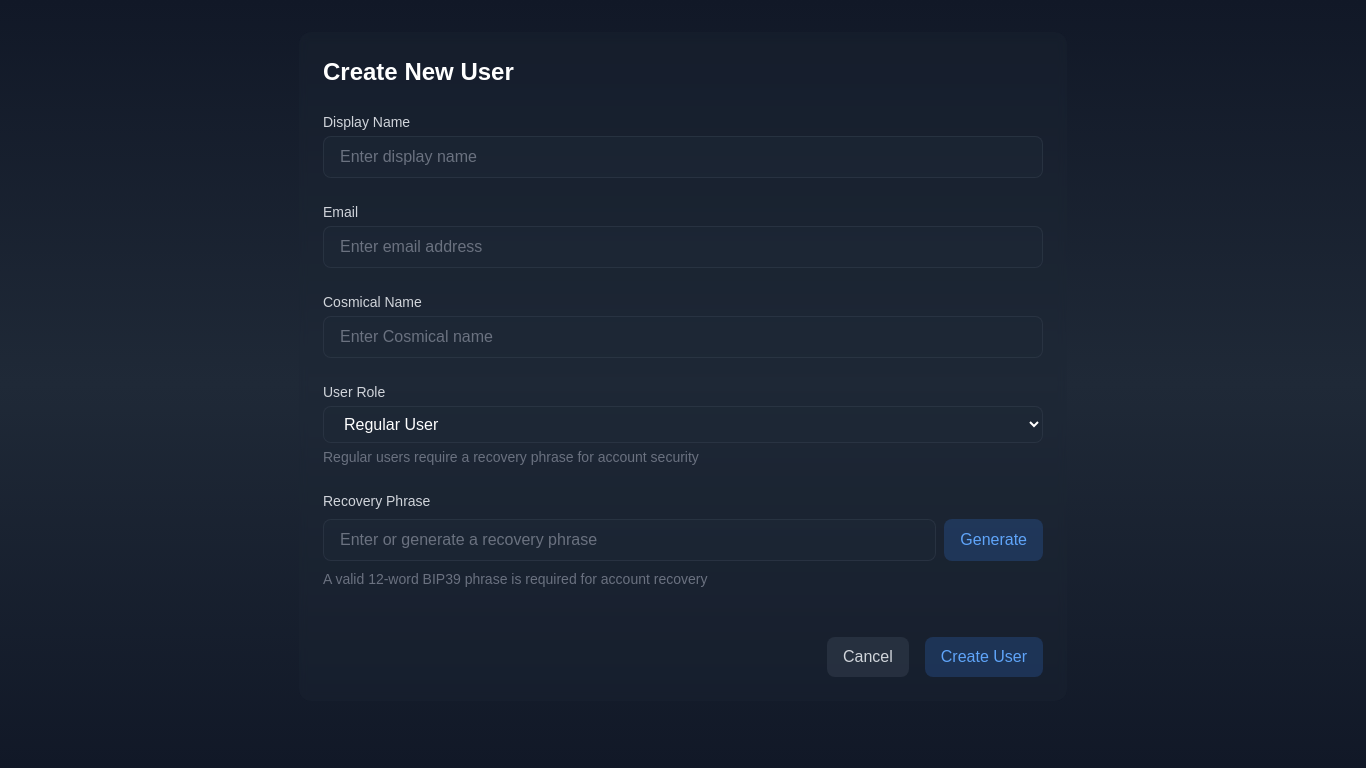
Test: UserEditForm.vue › Form Validation › validates display name length
The width and height of the screenshot is (1366, 768).
Type "ab" into the field with placeholder "Enter display name".
click(683, 157); type("ab")  # box x1=323 y1=136 x2=1043 y2=178
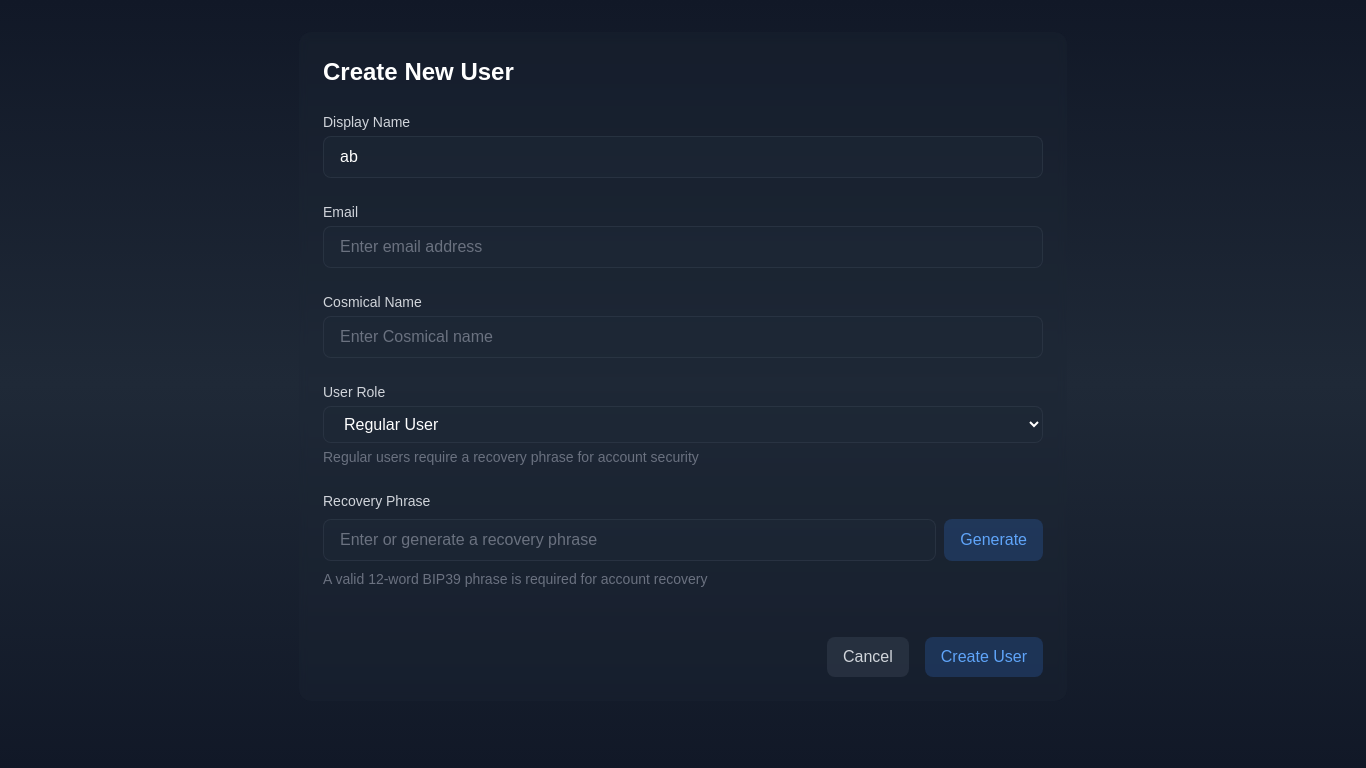
Submit the form, box x1=323 y1=112 x2=1043 y2=677
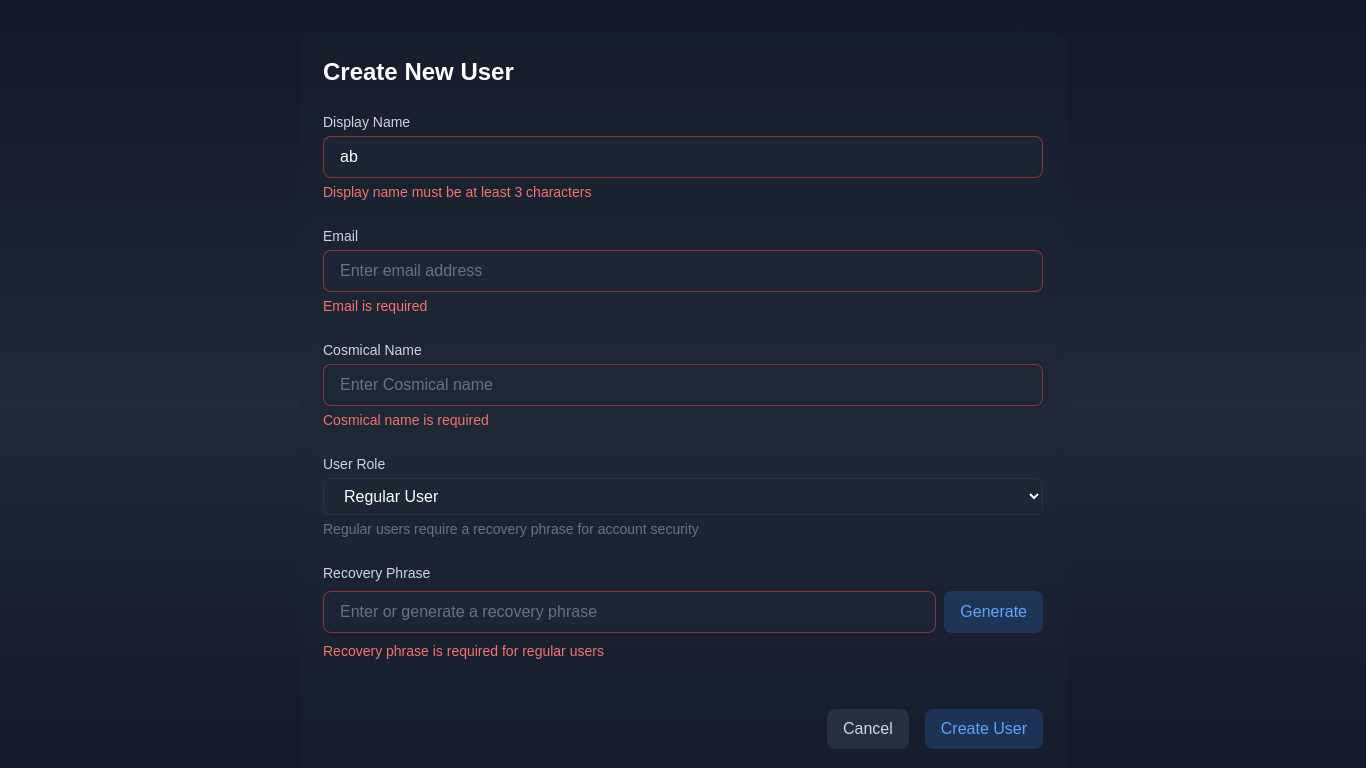
Check: the text "Display name must be at least 3 characters" is shown, box x1=323 y1=184 x2=592 y2=200
